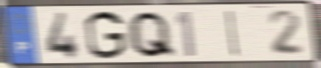1: (174, 10, 196, 59)
2: (267, 9, 307, 57)
4: (45, 11, 80, 61)
G: (83, 10, 128, 61)
I: (225, 9, 241, 59)
Q: (126, 10, 179, 60)
